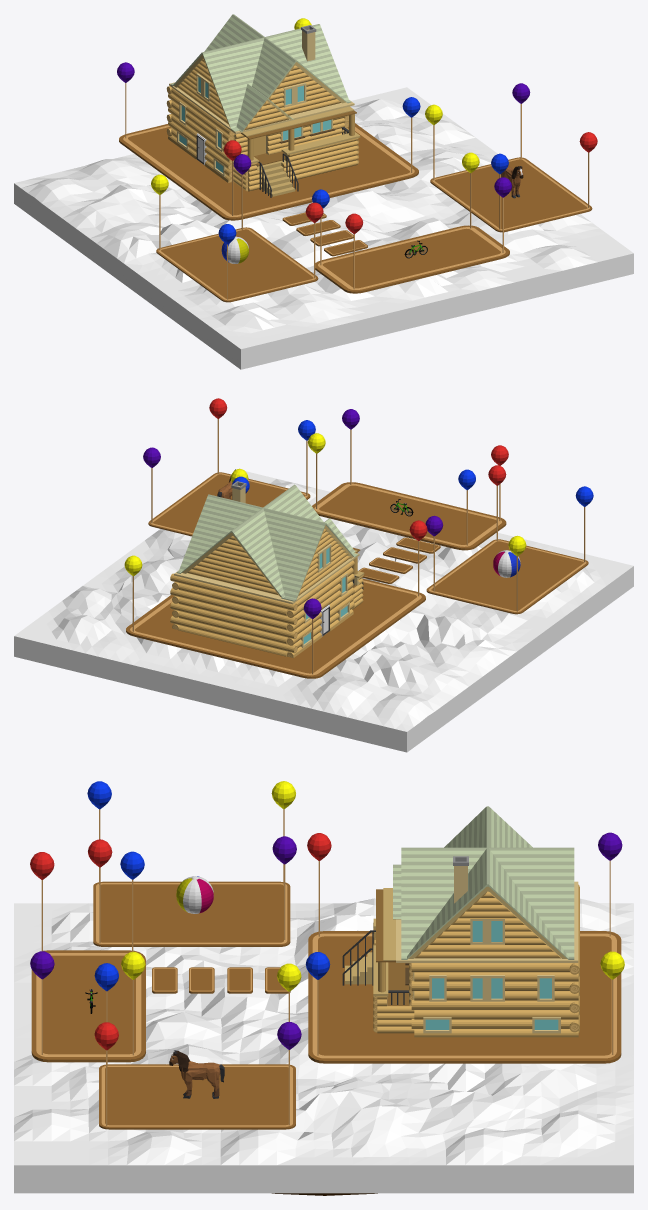
3 renders of one model, top to bottom at view 1: azimuth 30°, elevation 25°; view 2: azimuth 150°, elevation 25°; view 3: azimuth 270°, elevation 25°, orthographic. The views are drawn at different scales.
Visible parts, largest first — view 1: Cube.013, Cube.1516, OBJRANDOM_BEACHBALL; view 2: Cube.013, Cube.1516, OBJRANDOM_BEACHBALL; view 3: Cube.013, Cube.1516, ANIMAL_CABALLO, OBJRANDOM_BEACHBALL.
Part boxes in pixels (box(x1,y1,x2,y2)): Cube.013: box(14, 18, 633, 369); Cube.1516: box(166, 14, 360, 197); OBJRANDOM_BEACHBALL: box(221, 236, 248, 263); Cube.013: box(14, 398, 633, 752); Cube.1516: box(170, 481, 364, 657); OBJRANDOM_BEACHBALL: box(493, 550, 520, 577); Cube.013: box(14, 781, 633, 1193); Cube.1516: box(342, 806, 579, 1037); ANIMAL_CABALLO: box(169, 1050, 224, 1098); OBJRANDOM_BEACHBALL: box(176, 876, 213, 913).
Bounding box in the file's own units: 4000 × 1754 × 4000.
Materials: 40 (2 with a texture image).
